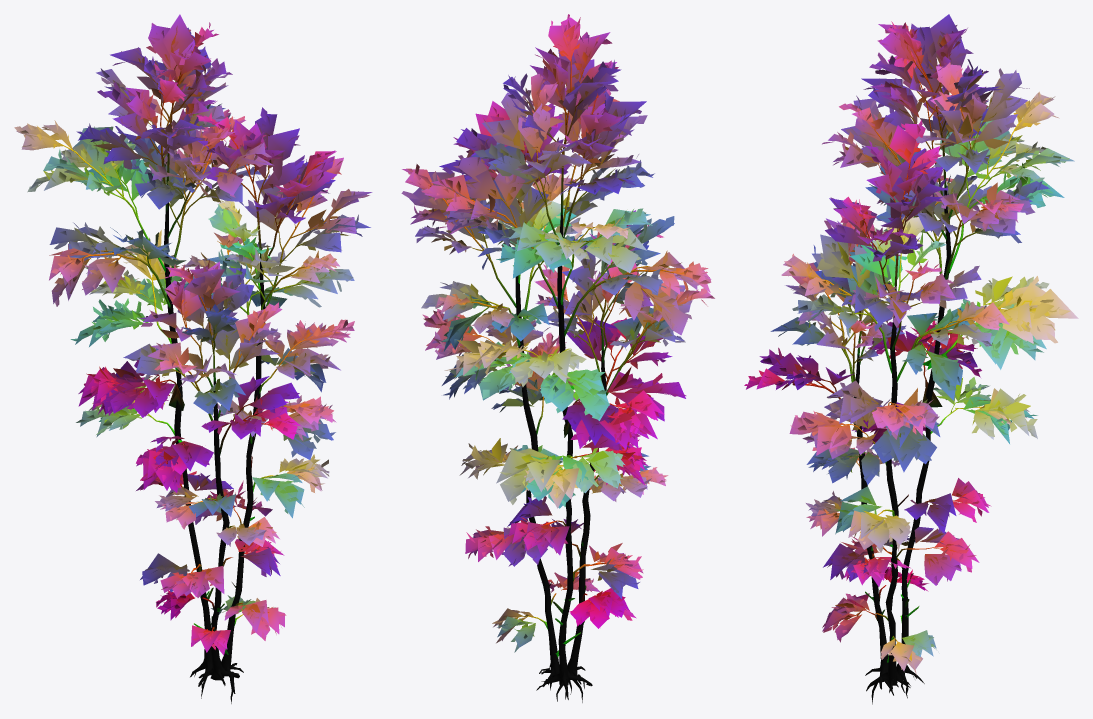
File: SM_EuropeanBeech_L_01.fbx
3 renders of one model, left to right at view 1: azimuth 30°, elevation 25°; view 2: azimuth 150°, elevation 25°; view 3: azimuth 270°, elevation 25°, orthographic. The views are drawn at different scales.
Parts seen in each view (by area): view 1: SM_EuropeanBeech_L_01_LOD0; view 2: SM_EuropeanBeech_L_01_LOD0; view 3: SM_EuropeanBeech_L_01_LOD0.
Boxes of the visible parts, box(x1,y1,x2,y2) form: SM_EuropeanBeech_L_01_LOD0: box(14, 14, 372, 703); SM_EuropeanBeech_L_01_LOD0: box(401, 14, 714, 702); SM_EuropeanBeech_L_01_LOD0: box(744, 14, 1078, 704).
Size of what is drawn, in the model's own units: 494 by 466 by 1039.
